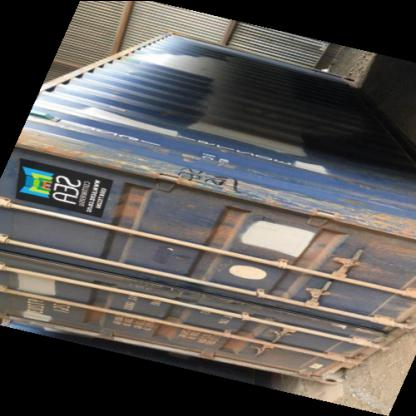Damage: (325, 206, 400, 235), (161, 166, 244, 192), (20, 142, 108, 162), (204, 211, 244, 248), (108, 180, 141, 224)
